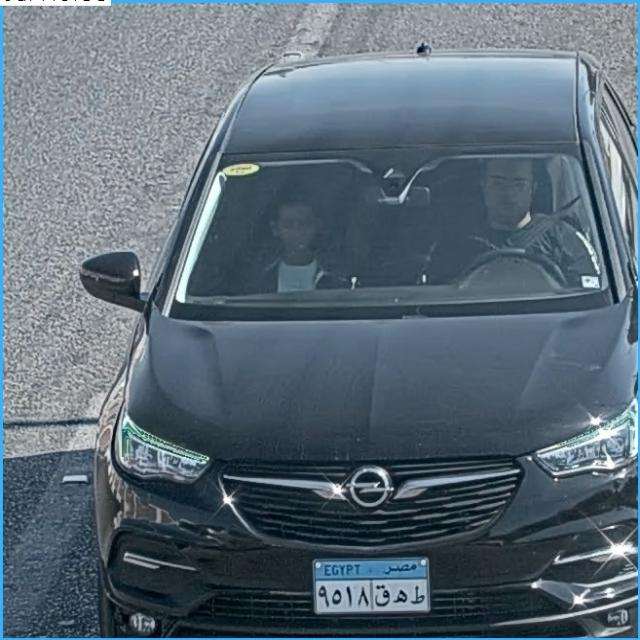windshield: (168, 158, 602, 301)
